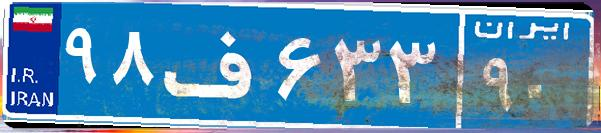0: (525, 38, 570, 115)
3: (385, 28, 445, 110), (330, 28, 385, 110)
6: (273, 28, 330, 110)
8: (110, 28, 158, 105)
9: (57, 26, 110, 107), (475, 38, 525, 113)
ف: (158, 15, 273, 115)
